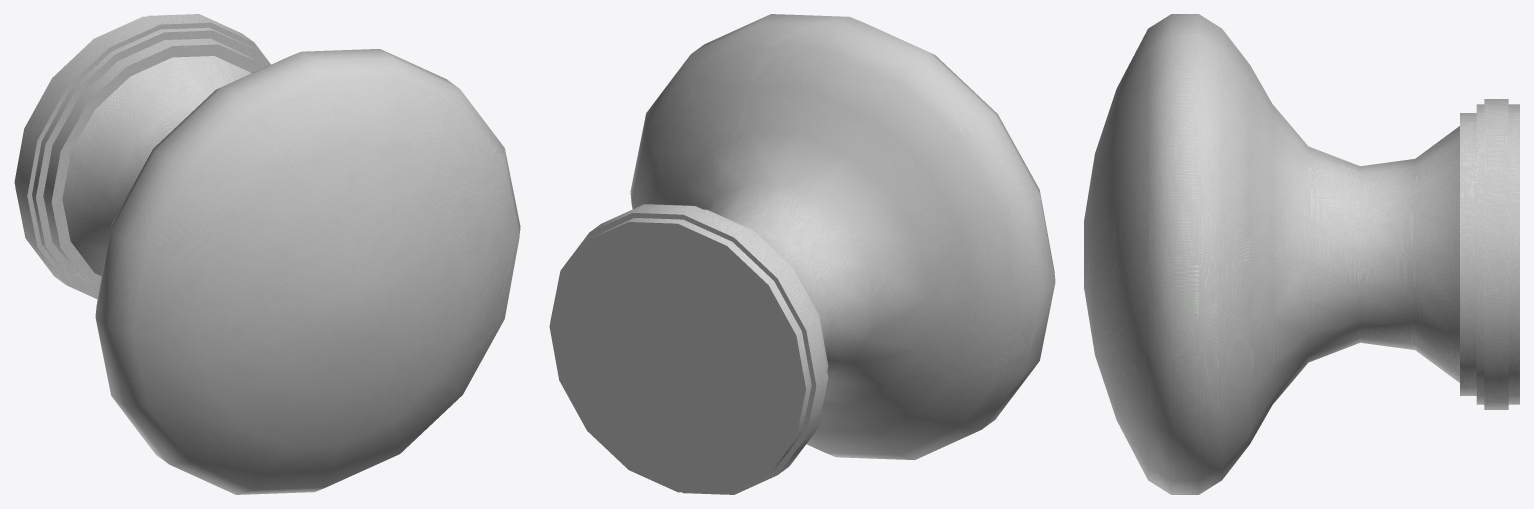
Rendered from original-30.obj.
The picture shows the model from 3 angles, left to right: view 1: azimuth 30°, elevation 25°; view 2: azimuth 150°, elevation 25°; view 3: azimuth 270°, elevation 25°; orthographic projection.
Visible parts, largest first — view 1: HP117_RB_1_1/HP117_RB_1/mesh21/mesh21-geometry#mesh21-geometry; view 2: HP117_RB_1_1/HP117_RB_1/mesh21/mesh21-geometry#mesh21-geometry; view 3: HP117_RB_1_1/HP117_RB_1/mesh21/mesh21-geometry#mesh21-geometry.
Part boxes in pixels (x1=…): HP117_RB_1_1/HP117_RB_1/mesh21/mesh21-geometry#mesh21-geometry: x1=14, y1=14, x2=520, y2=494; HP117_RB_1_1/HP117_RB_1/mesh21/mesh21-geometry#mesh21-geometry: x1=549, y1=14, x2=1055, y2=494; HP117_RB_1_1/HP117_RB_1/mesh21/mesh21-geometry#mesh21-geometry: x1=1084, y1=14, x2=1519, y2=494.
Size of the model in its own units: 0.0536 by 0.0536 by 0.0485.
